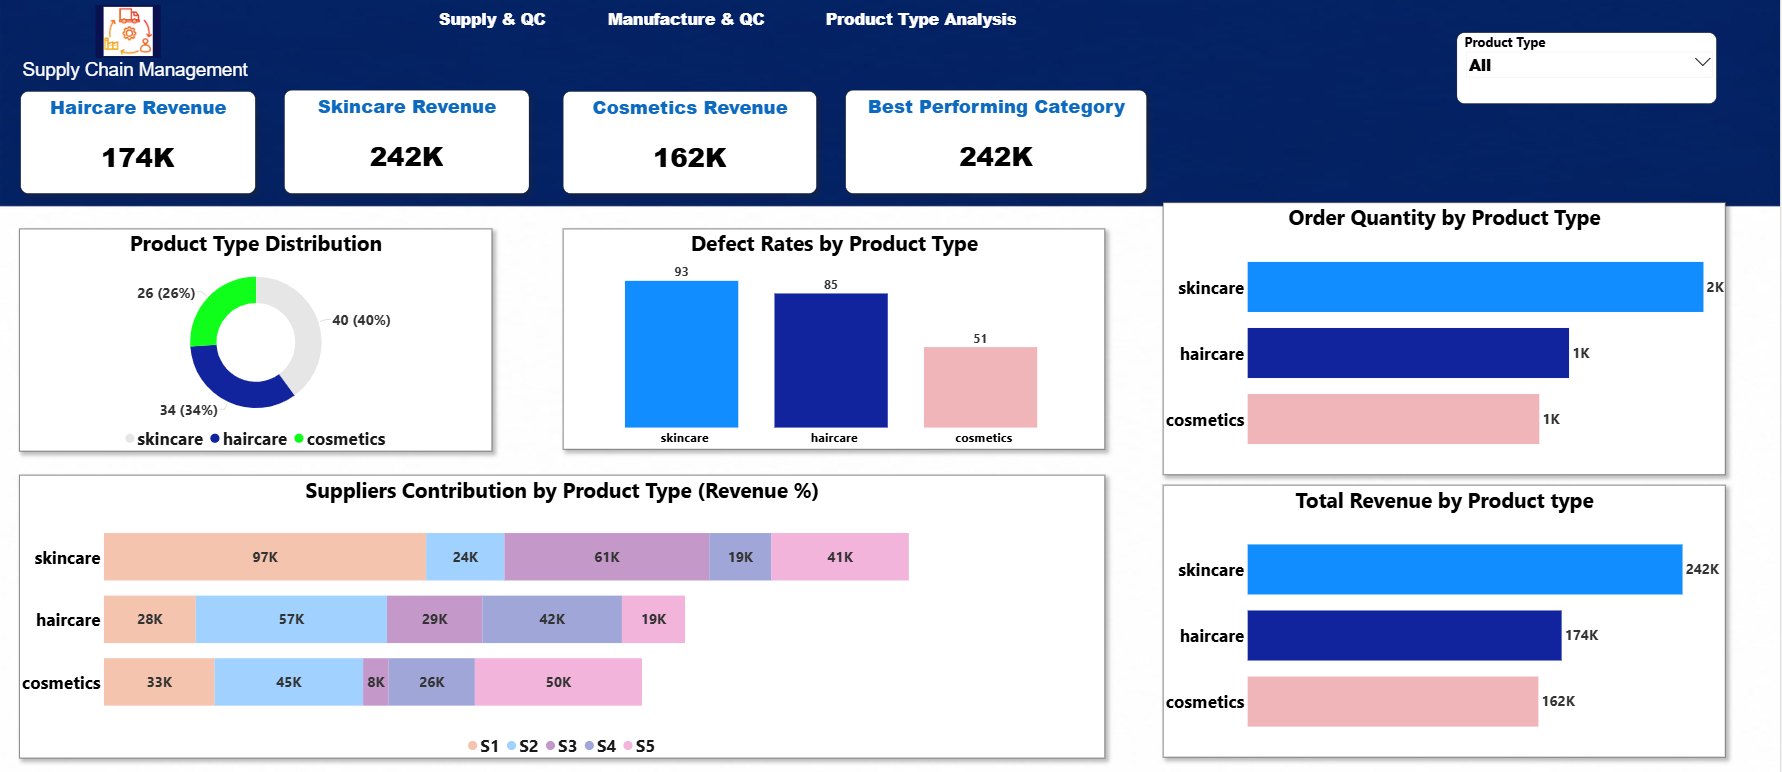

The dashboard page shown, as its layout file describes it:
{"tool":"powerbi","page":{"name":"Page 3","canvas":[4580,2000],"ordinal":2},"visuals":[{"type":"cardVisual","title":"Haircare Revenue","fields":{"Data":["supply_chain_data.Haircare Revenue"]},"box":[57.8,247.4,604,263.4],"z":0},{"type":"cardVisual","title":"Skincare Revenue","fields":{"Data":["supply_chain_data.Skincare Revenue"]},"box":[735.7,244.2,629.7,266.7],"z":1000},{"type":"cardVisual","title":"Cosmetics Revenue","fields":{"Data":["supply_chain_data.Cosmetics Revenue"]},"box":[1452.1,247.4,652.2,263.4],"z":2000},{"type":"cardVisual","title":"Best Performing Category","fields":{"Data":["supply_chain_data.best product"]},"box":[2178.2,244.2,774.3,266.7],"z":3000},{"type":"barChart","title":"Order Quantity by Product Type","fields":{"Category":["supply_chain_data.Product type"],"Y":["Sum(supply_chain_data.Order Quantity)"]},"box":[2994.2,533.3,1445.7,700.4],"z":4000},{"type":"barChart","fields":{"Y":["supply_chain_data.Total Revenue"],"Category":["supply_chain_data.Product type"]},"box":[2994.2,1259.4,1445.7,700.4],"z":5000},{"type":"donutChart","title":"Product Type Distribution","fields":{"Y":["supply_chain_data.PRODUCT COUNT"],"Category":["supply_chain_data.Product type"]},"box":[55,601.3,1215.3,571.7],"z":6000},{"type":"columnChart","title":"Defect Rates by Product Type","fields":{"Y":["Sum(supply_chain_data.Defect rates)"],"Category":["supply_chain_data.Product type"]},"box":[1452.4,601.3,1393.1,567.4],"z":7000},{"type":"barChart","title":"Suppliers Contribution by Product Type (Revenue %)","fields":{"Category":["supply_chain_data.Product type"],"Series":["supply_chain_data.Supp..."],"Y":["supply_chain_data.Total Revenue"]},"box":[55,1232.2,2790.5,728.3],"z":8000},{"type":"image","box":[250.5,25.1,168.2,136],"z":9000},{"type":"textbox","box":[57.8,160.6,703.6,86.7],"z":10000},{"type":"actionButton","box":[1038,25.1,465.3,68],"z":11000},{"type":"actionButton","box":[1489,25.1,561.9,68],"z":12000},{"type":"actionButton","box":[2061.7,25.1,619.2,68],"z":13000},{"type":"slicer","title":"Product Type","fields":{"Values":["supply_chain_data.Product type"]},"box":[3749.2,96.4,668.2,183.1],"z":14000}]}

Visuals, with their boxes in screenshot pixels (x1, y1, x2, y2), scaled from the page's 4580x2000 canvas onto the 1782x772 screenshot:
"Haircare Revenue" cardVisual: 22/95/257/197
"Skincare Revenue" cardVisual: 286/94/531/197
"Cosmetics Revenue" cardVisual: 565/95/819/197
"Best Performing Category" cardVisual: 848/94/1149/197
"Order Quantity by Product Type" barChart: 1165/206/1727/476
barChart - supply_chain_data.Total Revenue x supply_chain_data.Product type: 1165/486/1727/756
"Product Type Distribution" donutChart: 21/232/494/453
"Defect Rates by Product Type" columnChart: 565/232/1107/451
"Suppliers Contribution by Product Type (Revenue %)" barChart: 21/476/1107/757
image: 97/10/163/62
textbox: 22/62/296/95
actionButton: 404/10/585/36
actionButton: 579/10/798/36
actionButton: 802/10/1043/36
"Product Type" slicer: 1459/37/1719/108
